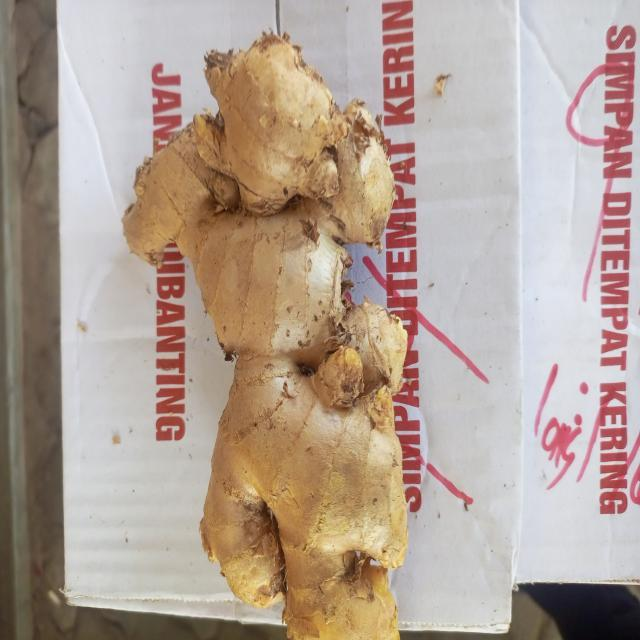ginger: (128, 36, 408, 636)
